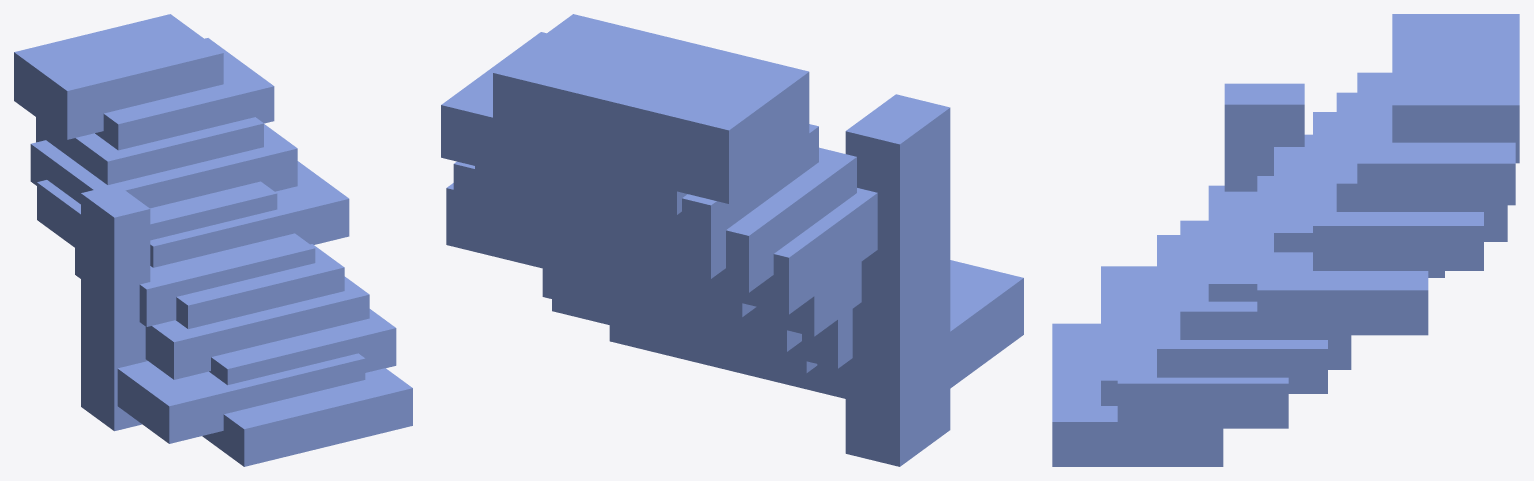
File: stairs.fbx
The picture shows the model from 3 angles, left to right: view 1: azimuth 30°, elevation 25°; view 2: azimuth 150°, elevation 25°; view 3: azimuth 270°, elevation 25°; orthographic projection. The views are drawn at different scales.
Parts seen in each view (by area): view 1: Cube.039, Cube.037, Cube.027, Cube.028, Cube.035, Cube.030, Cube.033, Cube.038, Cube.036, Cube.032, Cube.029, Cube.034 (+1 smaller); view 2: Cube.039, Cube.037, Cube.036, Cube.035, Cube.034, Cube.028, Cube.038, Cube.033, Cube.031, Cube.032, Cube.030, Cube.029 (+1 smaller); view 3: Cube.039, Cube.033, Cube.038, Cube.029, Cube.035, Cube.027, Cube.030, Cube.037, Cube.031, Cube.032, Cube.036, Cube.034 (+1 smaller).
Part boxes in pixels (box(x1,y1,x2,y2)): Cube.039: box(14, 14, 223, 139); Cube.037: box(81, 184, 150, 431); Cube.027: box(202, 368, 412, 466); Cube.028: box(117, 353, 365, 443); Cube.035: box(30, 124, 297, 208); Cube.030: box(145, 276, 369, 379); Cube.033: box(150, 161, 349, 267); Cube.038: box(95, 38, 274, 150); Cube.036: box(36, 117, 263, 184); Cube.032: box(75, 233, 315, 326); Cube.029: box(209, 309, 396, 385); Cube.034: box(37, 180, 277, 251); Cube.039: box(493, 14, 809, 203); Cube.037: box(845, 94, 950, 466); Cube.036: box(475, 124, 818, 278); Cube.035: box(453, 147, 856, 292); Cube.034: box(534, 188, 877, 314); Cube.028: box(619, 260, 1023, 396); Cube.038: box(441, 32, 687, 214); Cube.033: box(446, 183, 756, 317); Cube.031: box(551, 270, 801, 351); Cube.032: box(559, 262, 861, 336); Cube.030: box(542, 268, 852, 368); Cube.029: box(552, 299, 817, 373); Cube.039: box(1392, 14, 1519, 163); Cube.033: box(1257, 176, 1428, 335); Cube.038: box(1357, 72, 1515, 205); Cube.029: box(1117, 285, 1288, 428); Cube.035: box(1313, 112, 1483, 270); Cube.027: box(1052, 323, 1223, 466); Cube.030: box(1157, 235, 1327, 393); Cube.037: box(1224, 83, 1304, 191); Cube.031: box(1180, 220, 1351, 369); Cube.032: box(1208, 185, 1257, 301); Cube.036: box(1336, 92, 1507, 241); Cube.034: box(1274, 134, 1444, 277).
Bounding box in the file's own units: 81.74 × 88.92 × 111.
